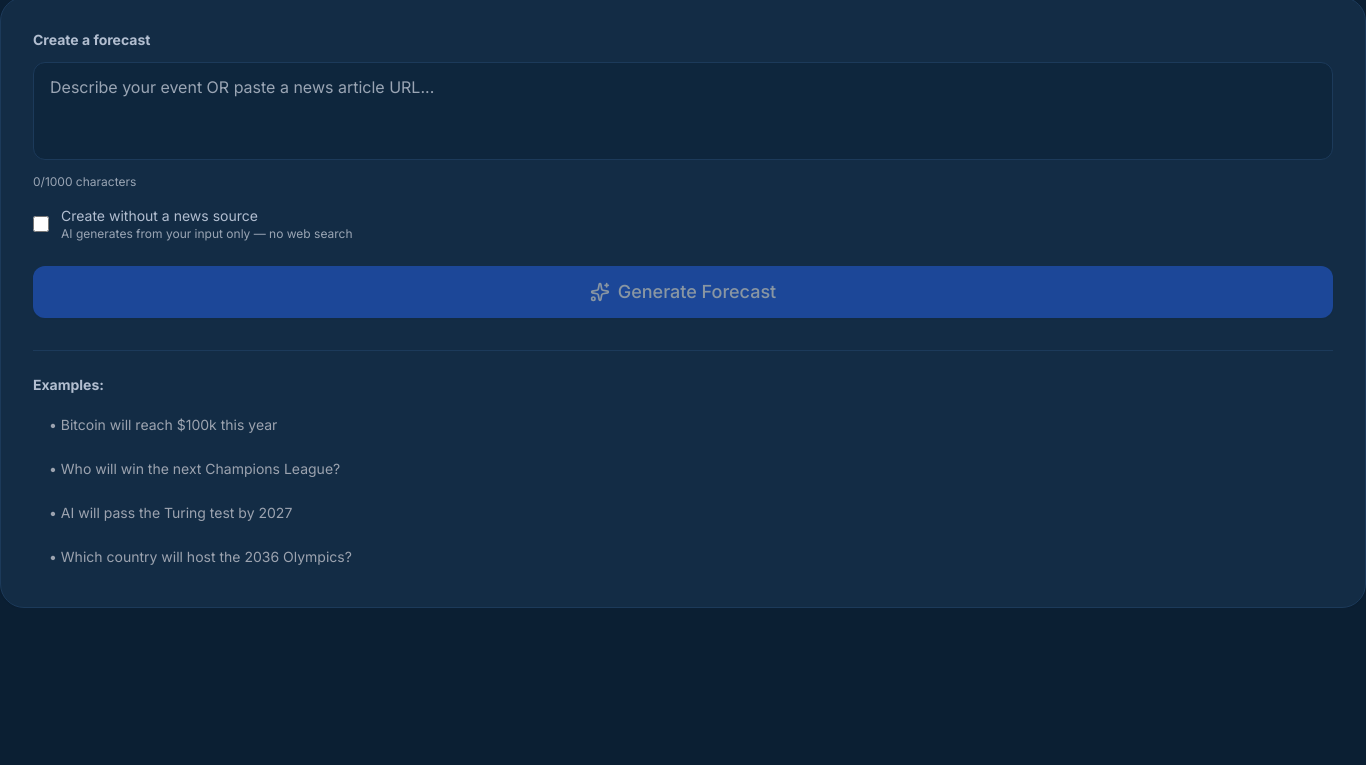
Test case: ExpressForecastClient › handleCreatePrediction (Confirm & Publish) › shows Public visibility toggle by default on review step
Type "Bitcoin will reach $100k this year" into the text box with placeholder "Describe your event OR paste a news article URL...". click: [683, 111]
box: [33,62,1333,160]
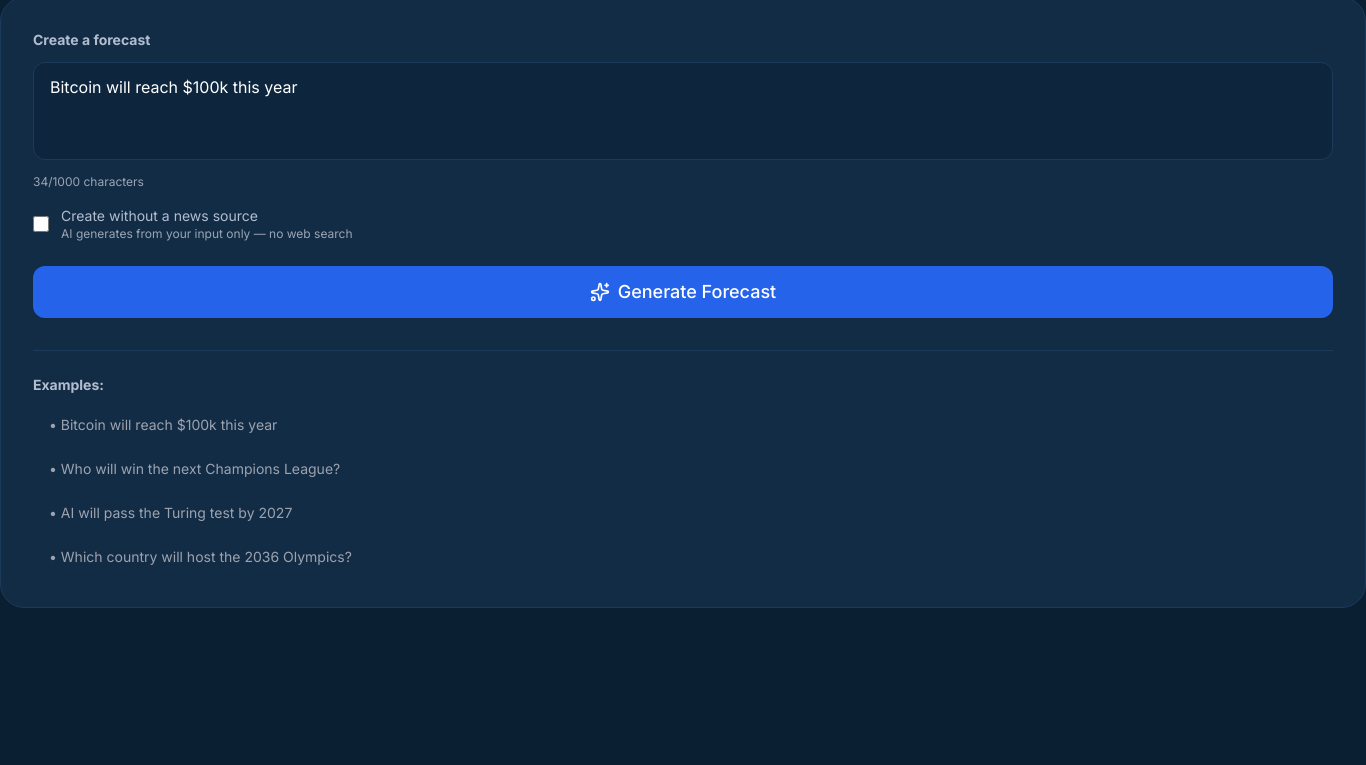
Click the button "Generate Forecast". click: [683, 292]
box: [33,266,1333,318]
(page scrolled)
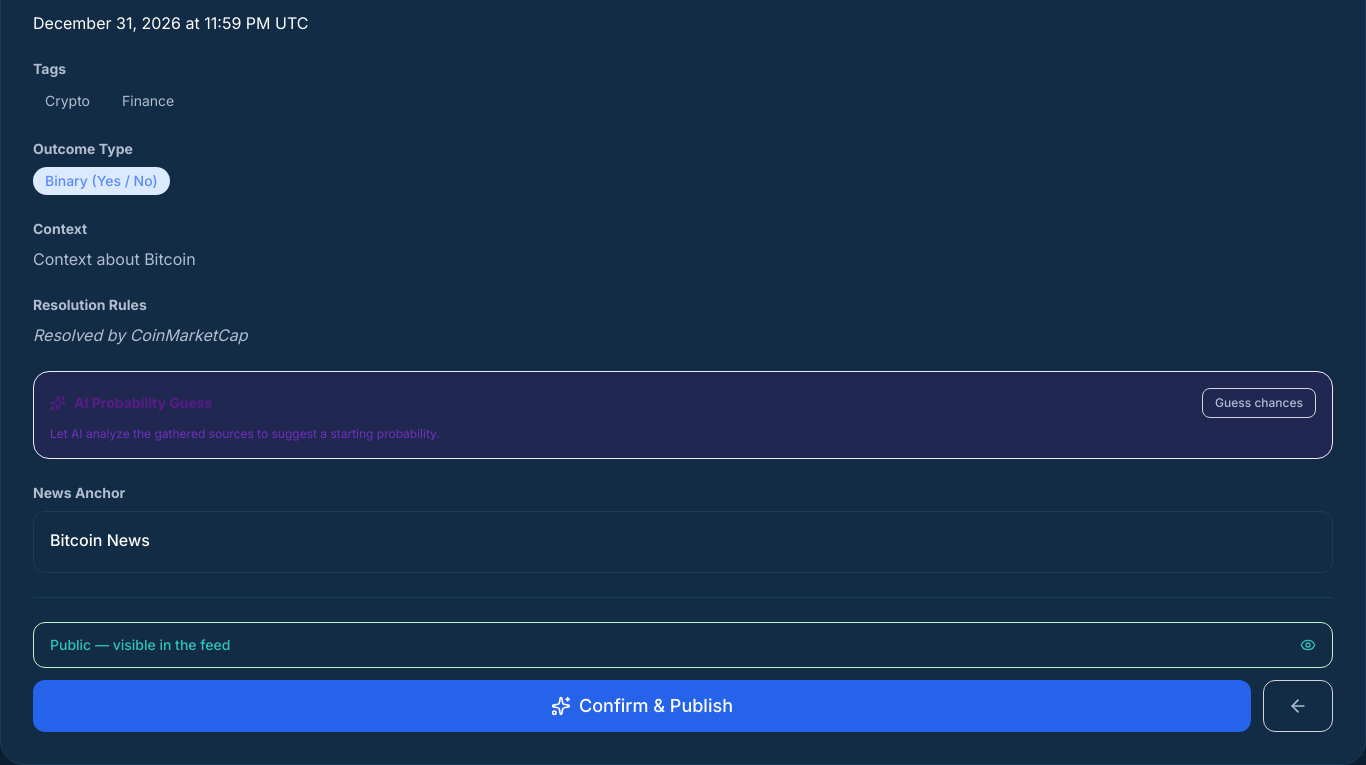
Check: the text "Public — visible in the feed" is shown, box [50,635,230,655]
